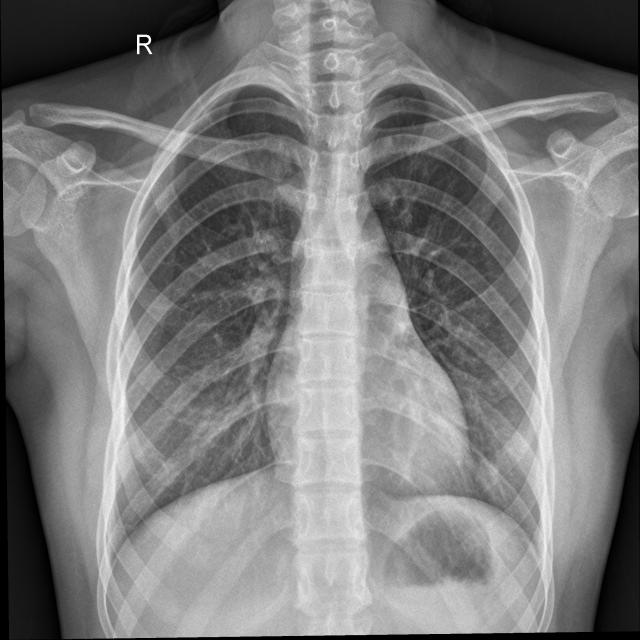no-pneumonia: (113, 80, 307, 534), (367, 85, 538, 461)
